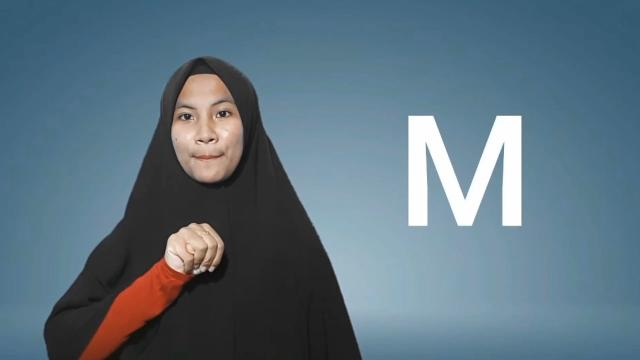M: (162, 222, 226, 278)
